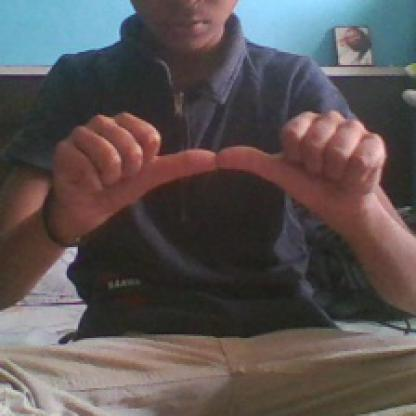A: (49, 99, 388, 235)
